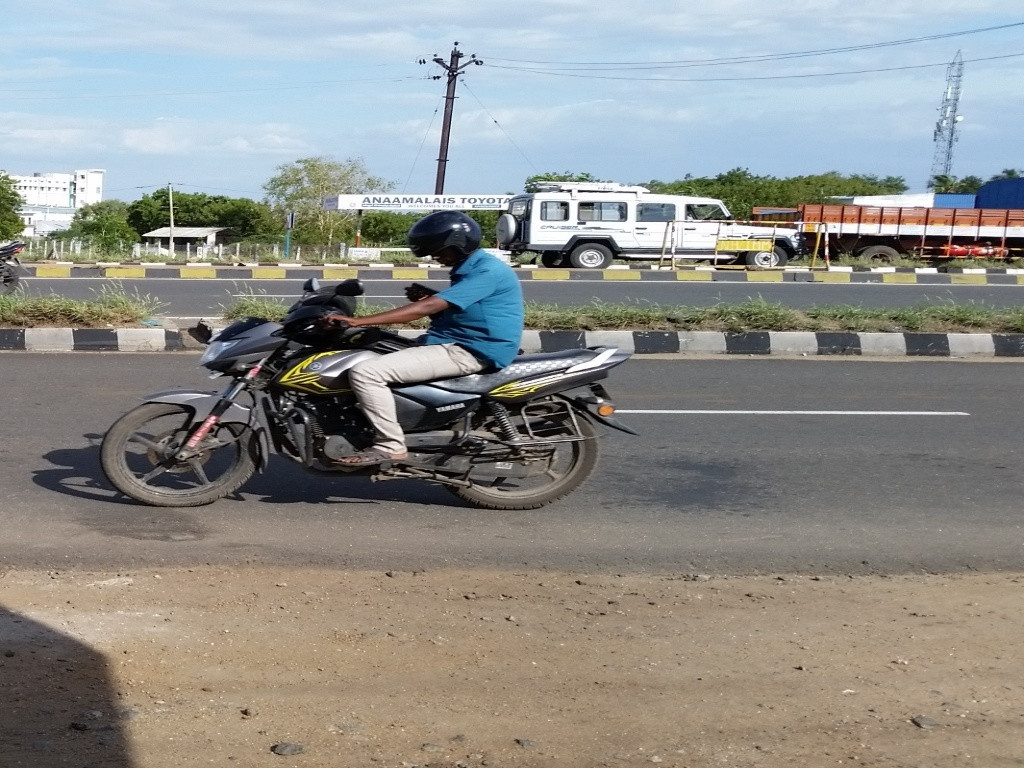biker: (82, 162, 655, 520)
helmet: (392, 201, 503, 281)
